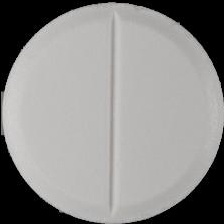42291-369: (0, 0, 224, 224)
